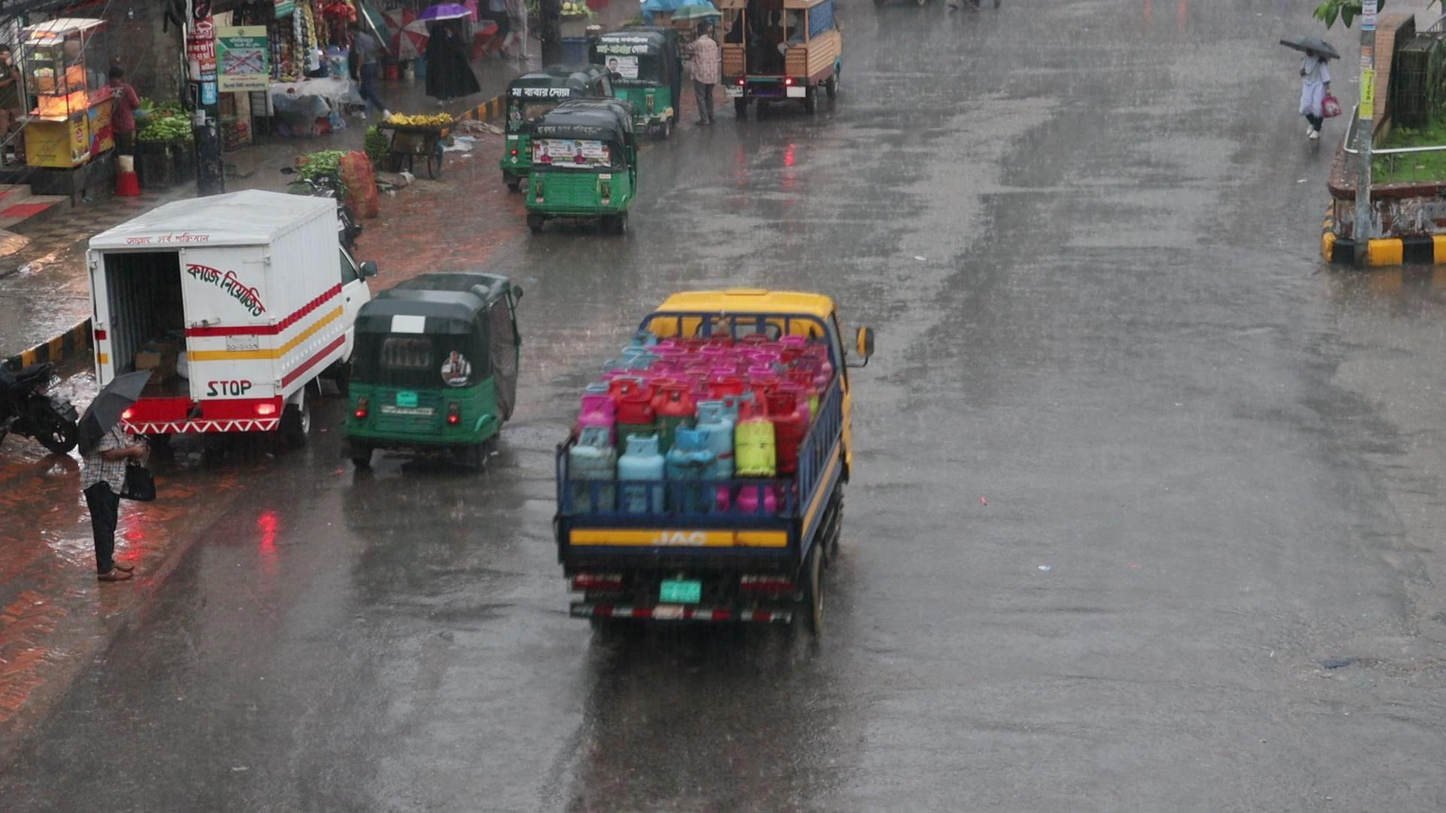Truck: (550, 283, 855, 658)
